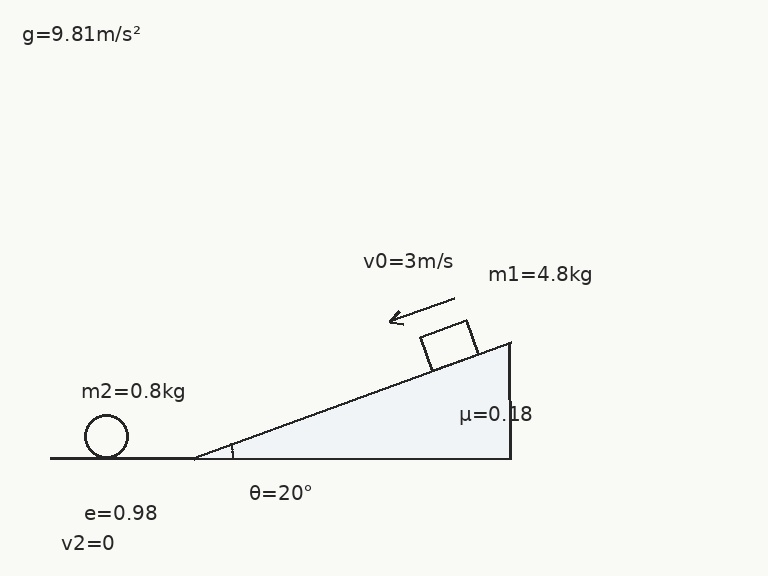ball: (82, 412, 130, 460)
block: (419, 319, 480, 373)
ramp: (191, 341, 512, 460)
